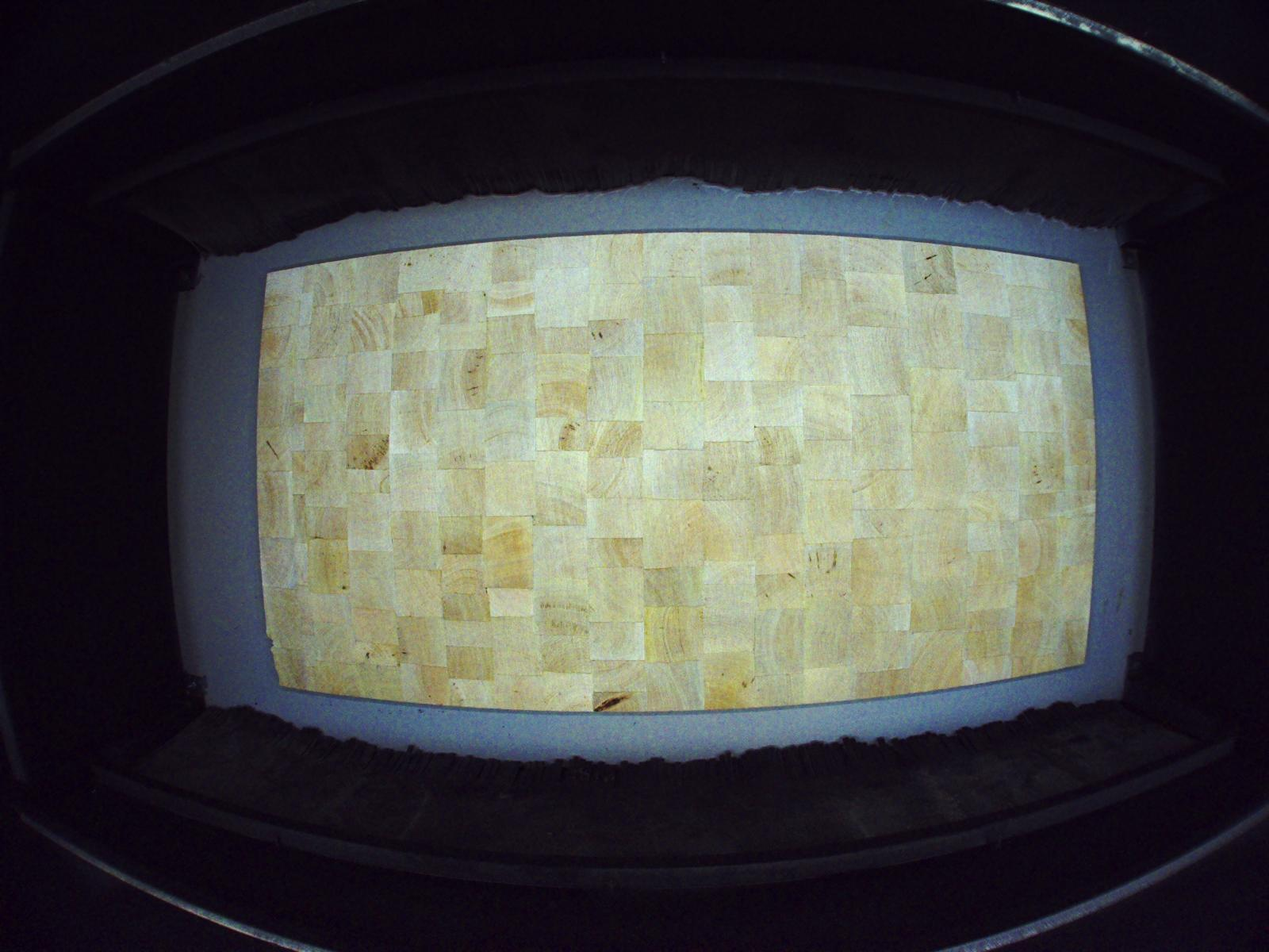nudillo: (593, 691, 634, 713)
